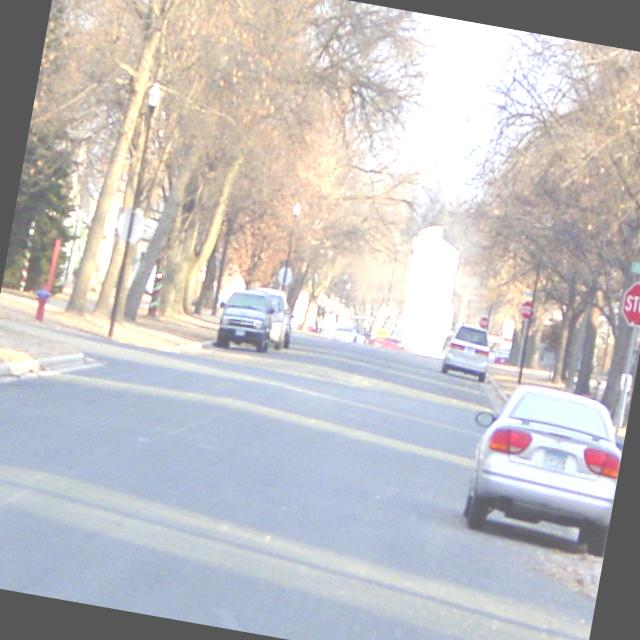Vehicle: (450, 374, 630, 556), (216, 286, 282, 353), (244, 285, 298, 352), (441, 322, 494, 384), (366, 334, 408, 352), (334, 324, 352, 342), (441, 332, 454, 354)
